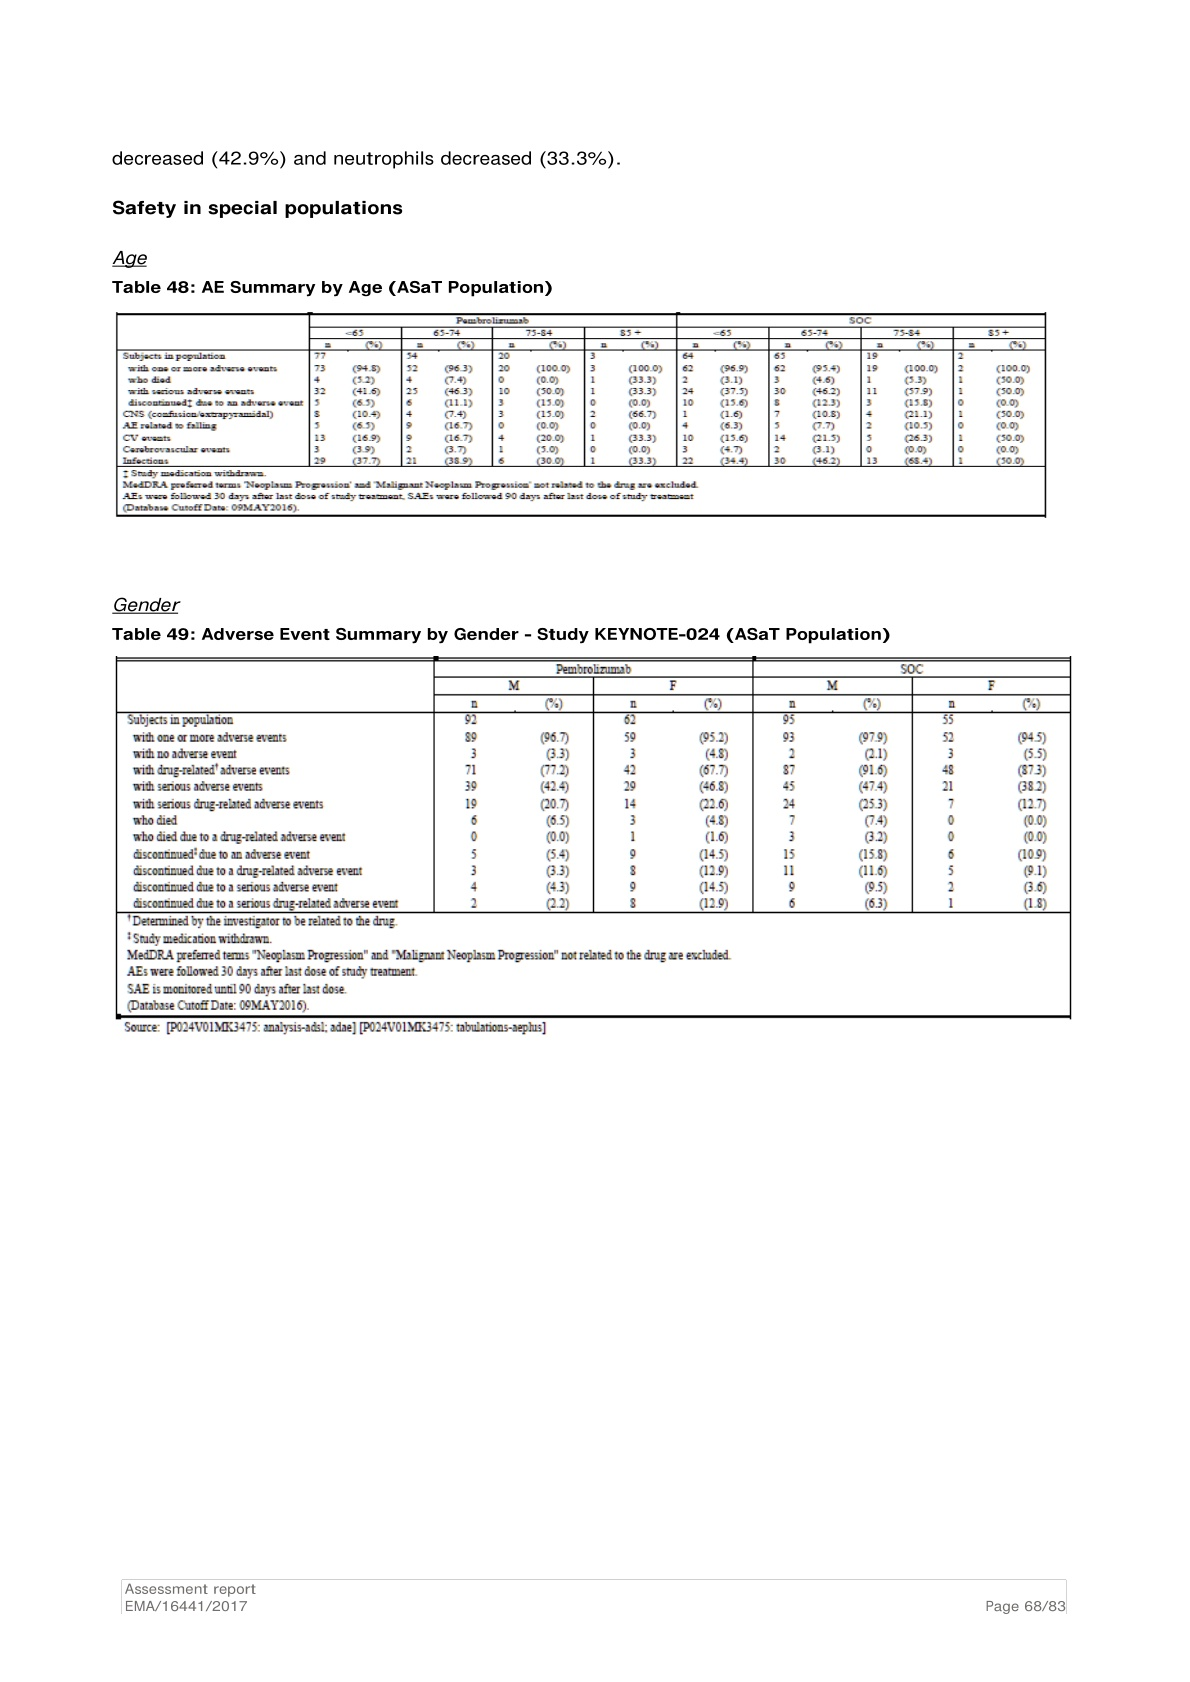partial_lined_merged_cells: (115, 656, 1072, 1020), (115, 310, 1048, 516)
